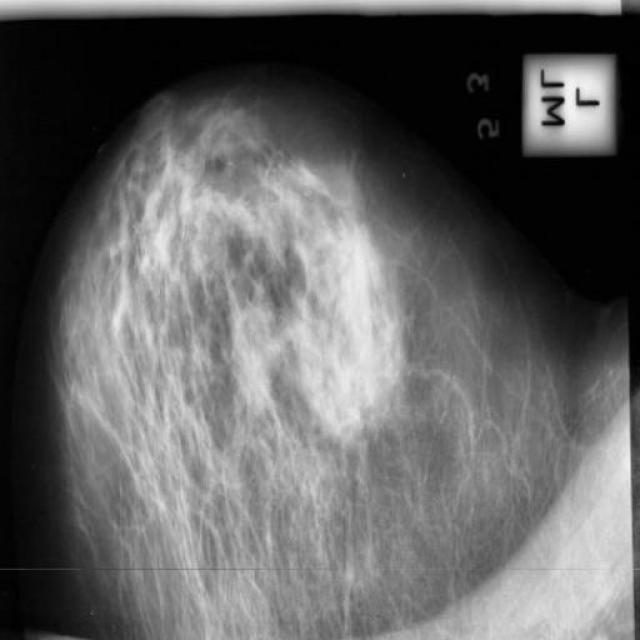cancer: (336, 295, 399, 387)
